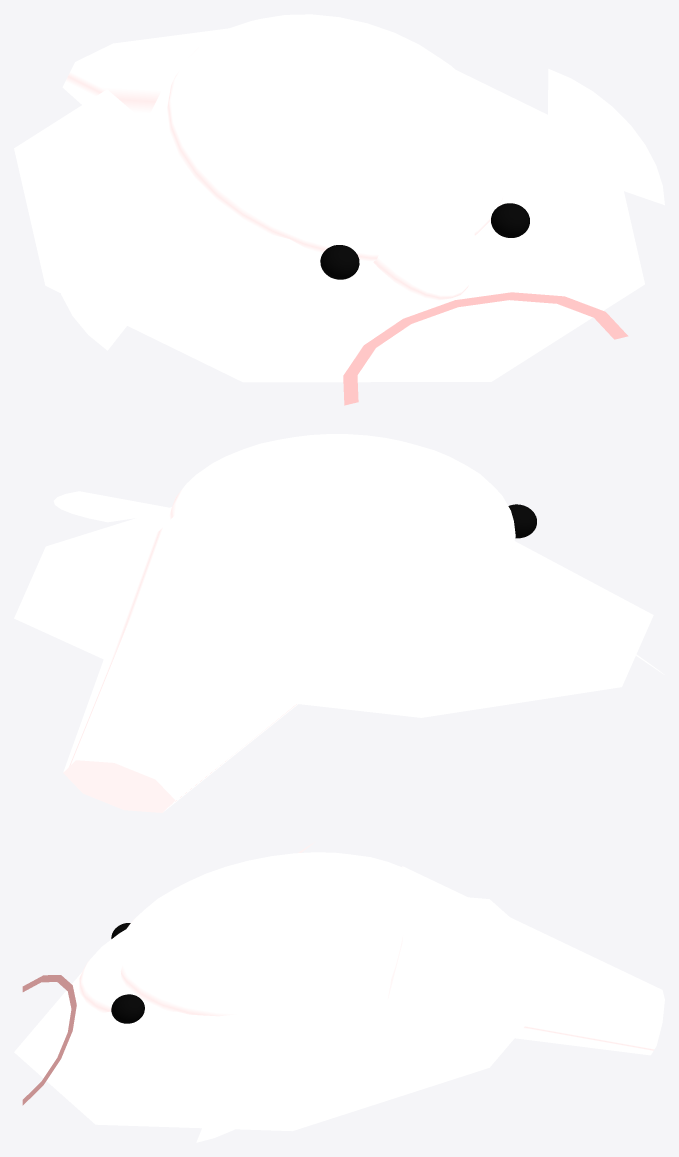
3 views of the same model, one above another, from view 1: azimuth 30°, elevation 25°; view 2: azimuth 150°, elevation 25°; view 3: azimuth 270°, elevation 25° (orthographic). The views are drawn at different scales.
Visible parts, largest first — view 1: Cylinder (×2), Sphere (×4), Circle (×2), Ring; view 2: Cylinder (×2), Sphere (×2), Circle; view 3: Cylinder (×2), Sphere (×3), Circle, Ring.
Boxes of the visible parts, x1,y1,x2,y2 form: Cylinder (×2): (14,28,644,382); Sphere (×4): (165,14,529,300); Circle (×2): (52,69,664,350); Ring: (343,292,628,405); Cylinder (×2): (14,507,653,812); Sphere (×2): (167,434,536,593); Circle: (53,491,168,522); Cylinder (×2): (14,866,664,1131); Sphere (×3): (77,852,439,1023); Circle: (196,1043,320,1142); Ring: (22,975,76,1105).
Bounding box in the file's own units: 2.05 × 0.695 × 2.31.
